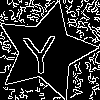Y: (21, 26, 59, 75)
